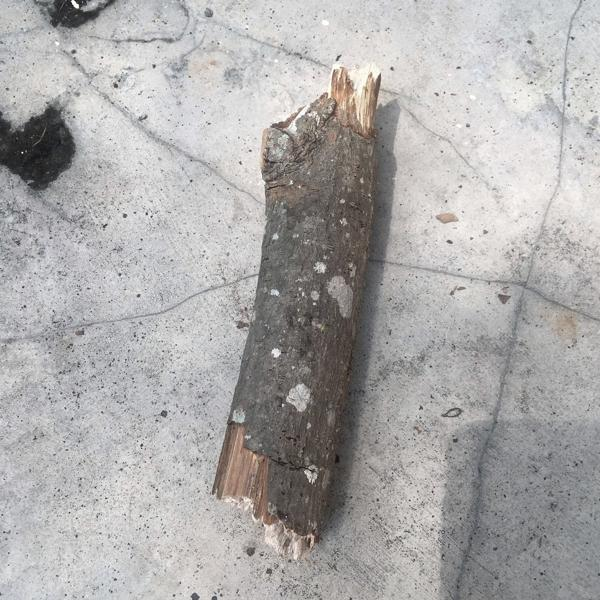Organik: (205, 58, 390, 558)
